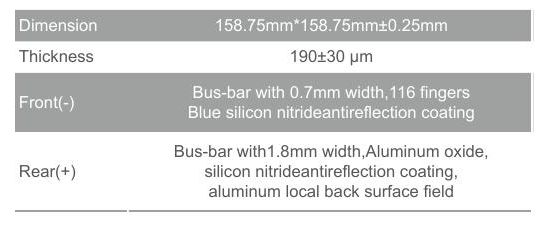table: (5, 4, 540, 219)
table column: (162, 7, 529, 215), (17, 8, 152, 212)
table row: (14, 135, 532, 208), (15, 75, 532, 130), (13, 11, 531, 42), (15, 45, 532, 70)
